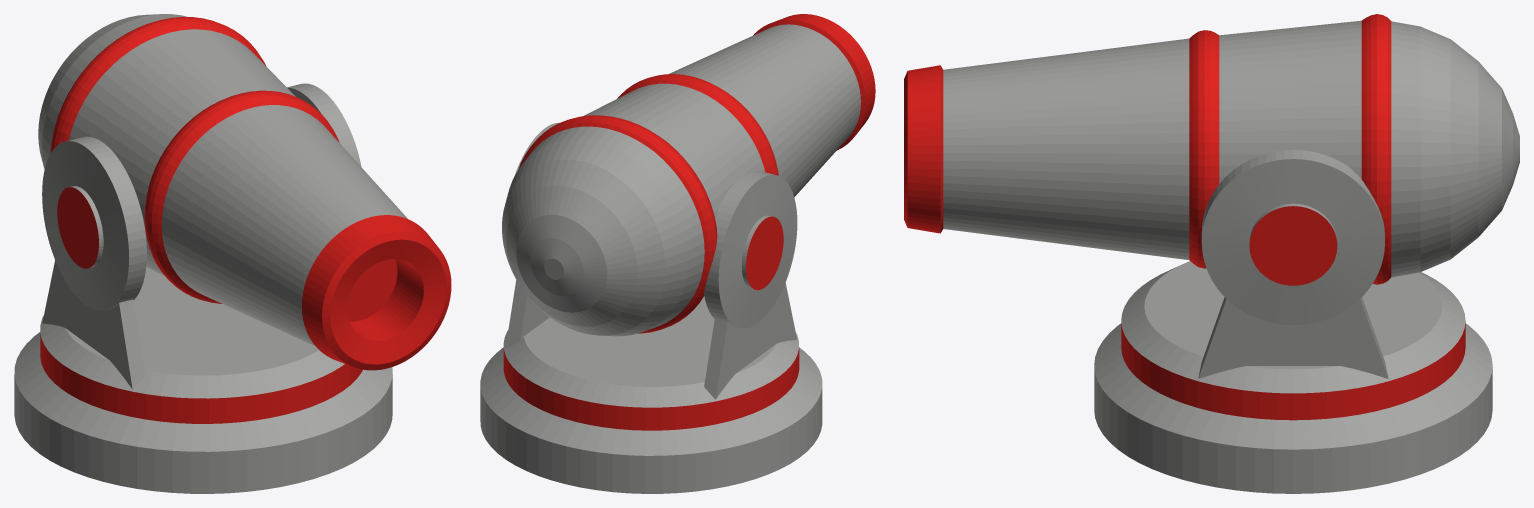
File: cannon_fire.fbx
3 renders of one model, left to right at view 1: azimuth 30°, elevation 25°; view 2: azimuth 150°, elevation 25°; view 3: azimuth 270°, elevation 25°, orthographic. The views are drawn at different scales.
Visible parts, largest first — view 1: Circle; view 2: Circle; view 3: Circle.
Boxes of the visible parts, x1=… form: Circle: x1=14, y1=14, x2=451, y2=493; Circle: x1=480, y1=14, x2=875, y2=493; Circle: x1=904, y1=14, x2=1519, y2=493.
Bounding box in the file's own units: 231 × 246 × 358.
Materials: 1 (1 with a texture image).
